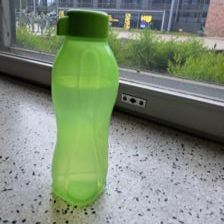bottle: (48, 6, 121, 205)
